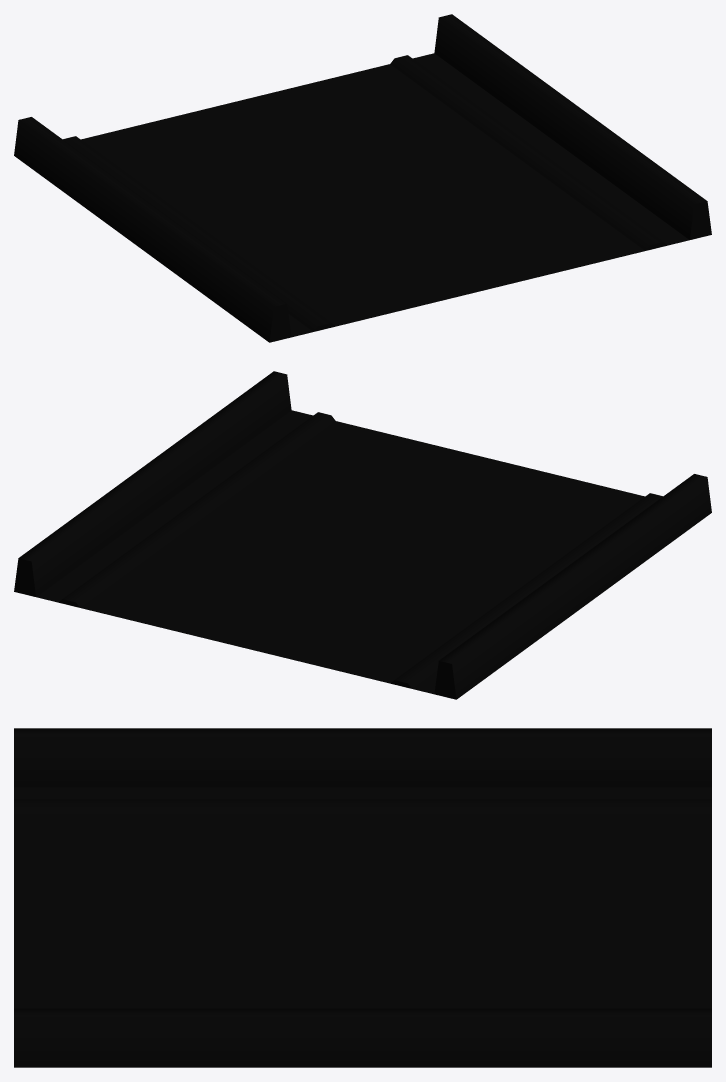
File: track-straight.glb
The picture shows the model from 3 angles, top to bottom: view 1: azimuth 30°, elevation 25°; view 2: azimuth 150°, elevation 25°; view 3: azimuth 270°, elevation 25°; orthographic projection. The views are drawn at different scales.
Parts seen in each view (by area): view 1: track-straight; view 2: track-straight; view 3: track-straight.
Boxes of the visible parts, bbox=[...] form: track-straight: bbox=[14, 14, 711, 342]; track-straight: bbox=[14, 371, 711, 699]; track-straight: bbox=[14, 728, 711, 1067].
Size of the model in its own units: 10 by 0.7495 by 10.
Materials: 1 (1 with a texture image).
